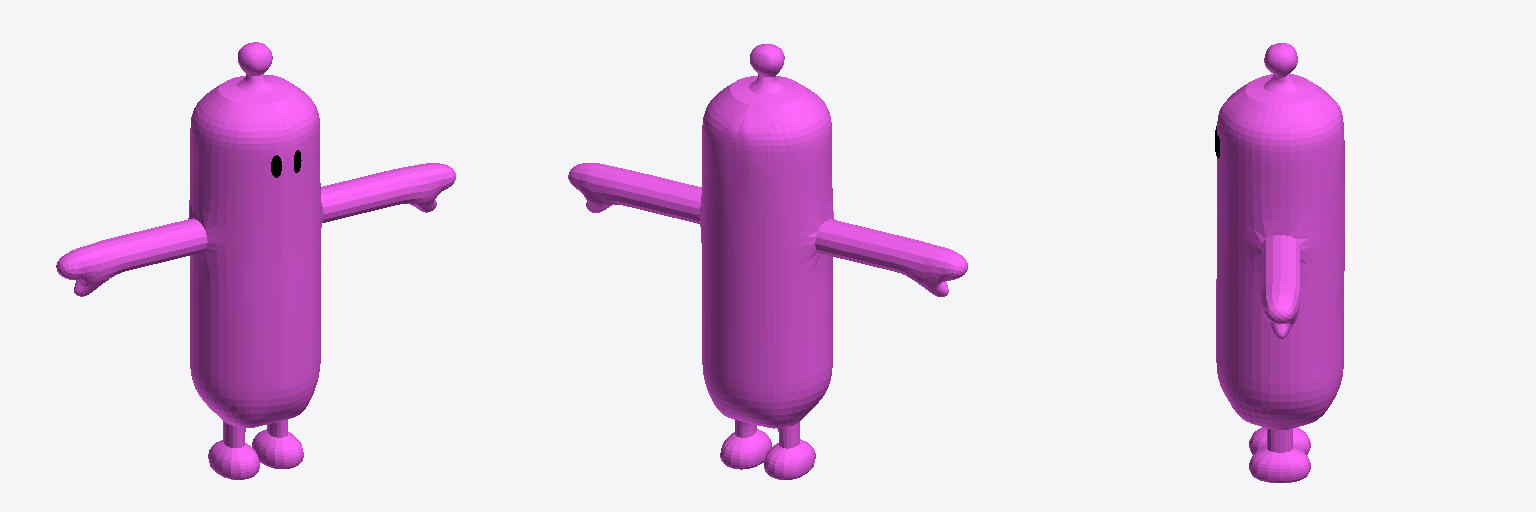
File: Personagem_1.obj
3 renders of one model, left to right at view 1: azimuth 30°, elevation 25°; view 2: azimuth 150°, elevation 25°; view 3: azimuth 270°, elevation 25°, orthographic.
Parts seen in each view (by area): view 1: Tronco; view 2: Tronco; view 3: Tronco.
Part boxes in pixels (left/top/right/bottom): Tronco: left=56, top=42, right=455, bottom=479; Tronco: left=568, top=44, right=967, bottom=479; Tronco: left=1215, top=43, right=1344, bottom=482.
Size of the model in its own units: 5.69 by 5.81 by 1.62.